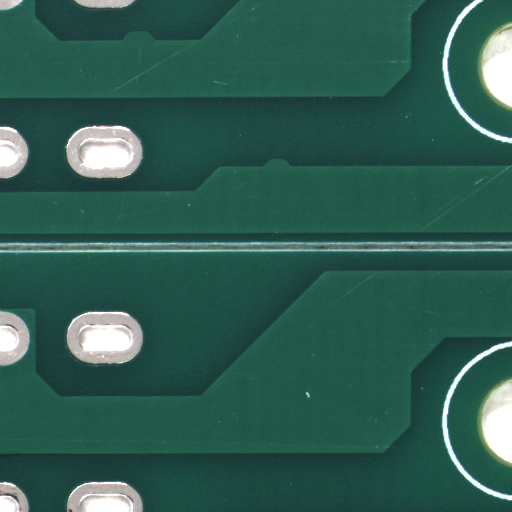Spur: (137, 36, 171, 50), (277, 163, 307, 174)
